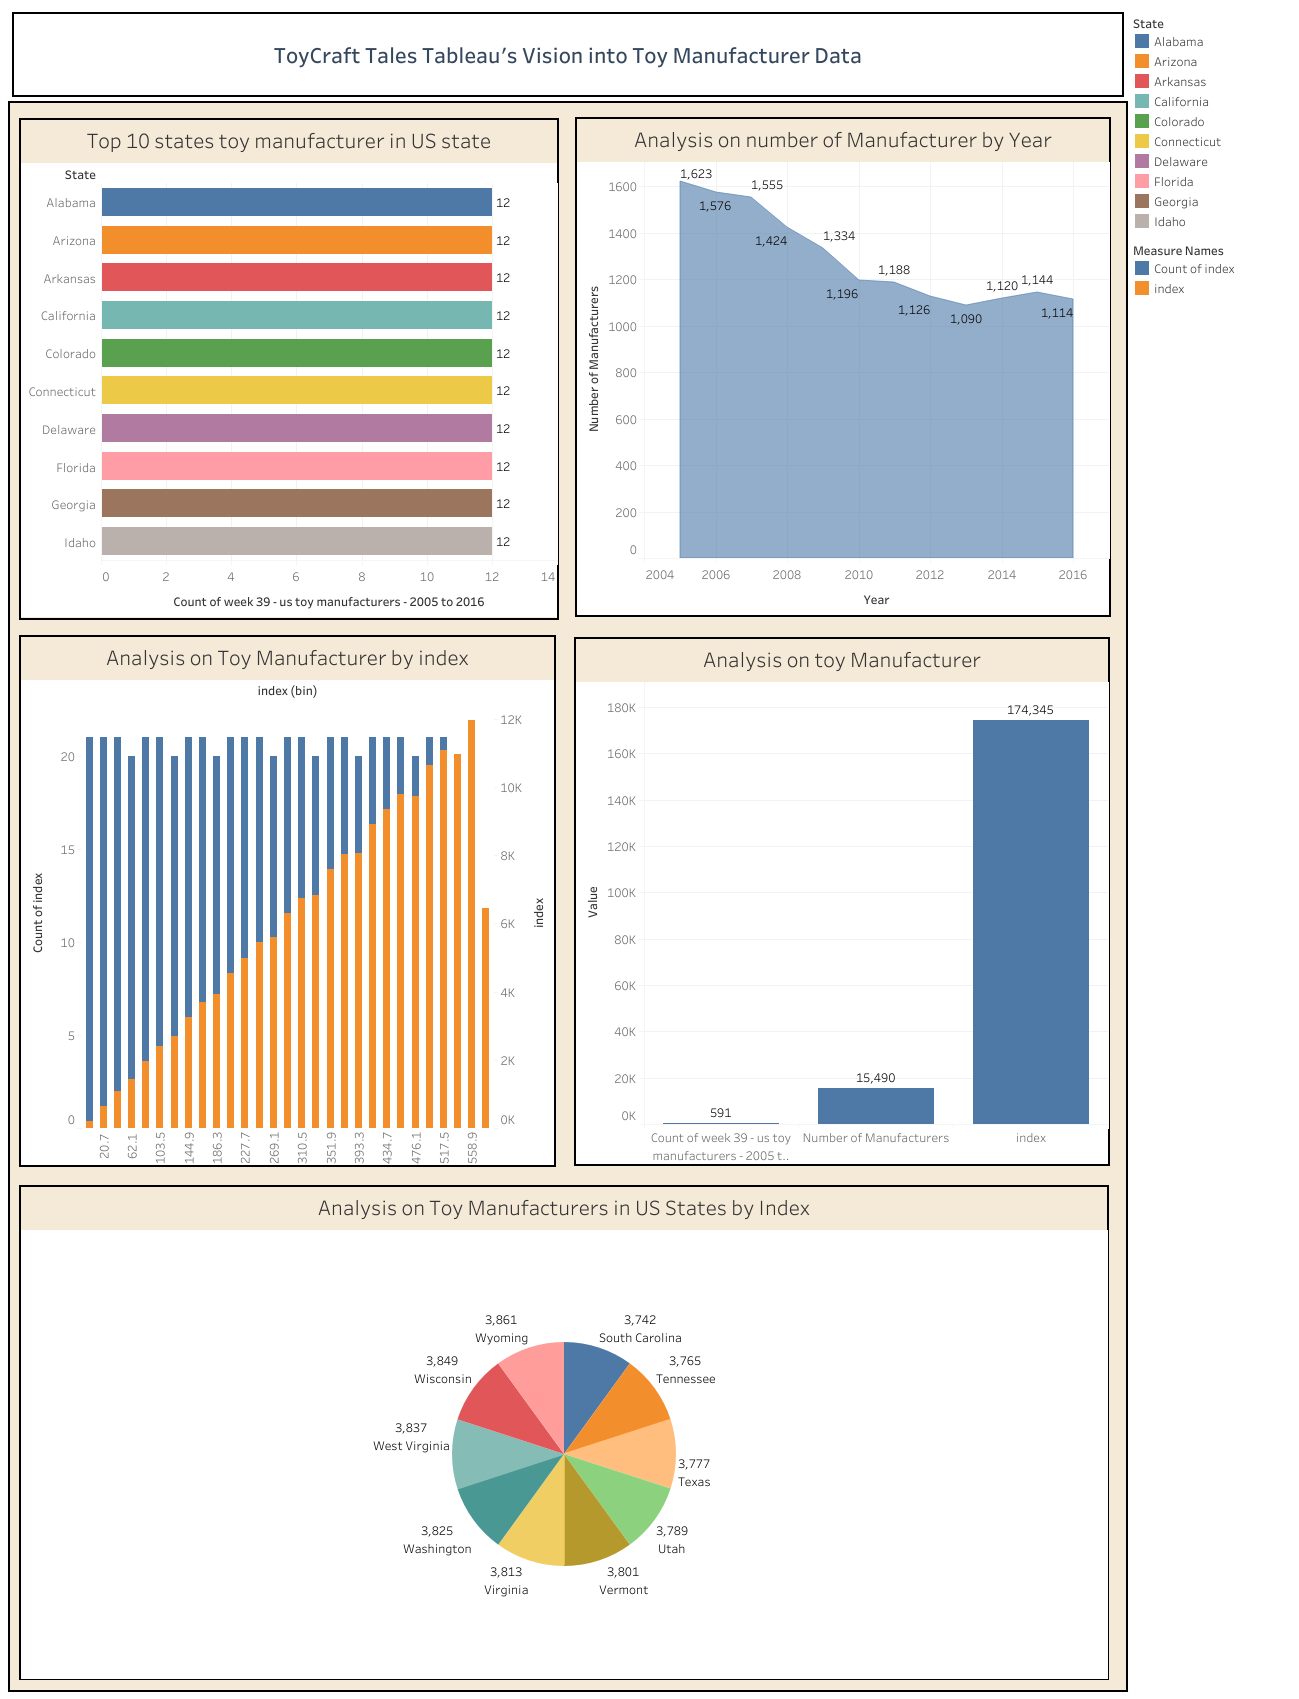

What the dashboard file says about the page in this screenshot:
{"tool":"tableau","page":{"name":"Dashboard 1","canvas":[1300,1700],"ordinal":0},"visuals":[{"type":"title","box":[8,8,1120,93]},{"type":"legend","title":"Top 10 states toy manufacturer in US state","param":"[federated.044h7cm1450oeo132cnio0uuzq9r].[none:State:nk]","box":[1128,8,164,284]},{"type":"worksheet","title":"Analysis on number of Manufacturer by Year","mark":"Area","rows":["Number of Manufacturers"],"cols":["Year"],"box":[575,117,536,500]},{"type":"worksheet","title":"Top 10 states toy manufacturer in US state","mark":"Automatic","rows":["State"],"cols":["week 39 - us toy manufacturers - 2005 to 2016_98F44B9E6A204A"],"box":[19,118,540,502]},{"type":"legend","title":"Analysis on Toy Manufacturer by index","param":"[federated.044h7cm1450oeo132cnio0uuzq9r].[:Measure Names]","box":[1128,292,164,84]},{"type":"worksheet","title":"Analysis on Toy Manufacturer by index","mark":"Bar","rows":["index","index"],"cols":["index (bin)"],"box":[19,635,537,532]},{"type":"worksheet","title":"Analysis on toy Manufacturer ","mark":"Automatic","box":[574,637,536,529]},{"type":"worksheet","title":"Analysis on Toy Manufacturers in US States by Index","mark":"Pie","box":[264,1188,642,495]}]}

Visuals, with their boxes in screenshot pixels (x1, y1, x2, y2), scaled from the page's 1300x1700 canvas onto the 1299x1699 screenshot:
title: crop(8, 8, 1127, 101)
"Top 10 states toy manufacturer in US state" legend: crop(1127, 8, 1291, 292)
"Analysis on number of Manufacturer by Year" worksheet (Area marks): crop(575, 117, 1110, 617)
"Top 10 states toy manufacturer in US state" worksheet: crop(19, 118, 559, 620)
"Analysis on Toy Manufacturer by index" legend: crop(1127, 292, 1291, 376)
"Analysis on Toy Manufacturer by index" worksheet (Bar marks): crop(19, 635, 556, 1166)
"Analysis on toy Manufacturer " worksheet: crop(574, 637, 1109, 1165)
"Analysis on Toy Manufacturers in US States by Index" worksheet (Pie marks): crop(264, 1187, 905, 1682)
